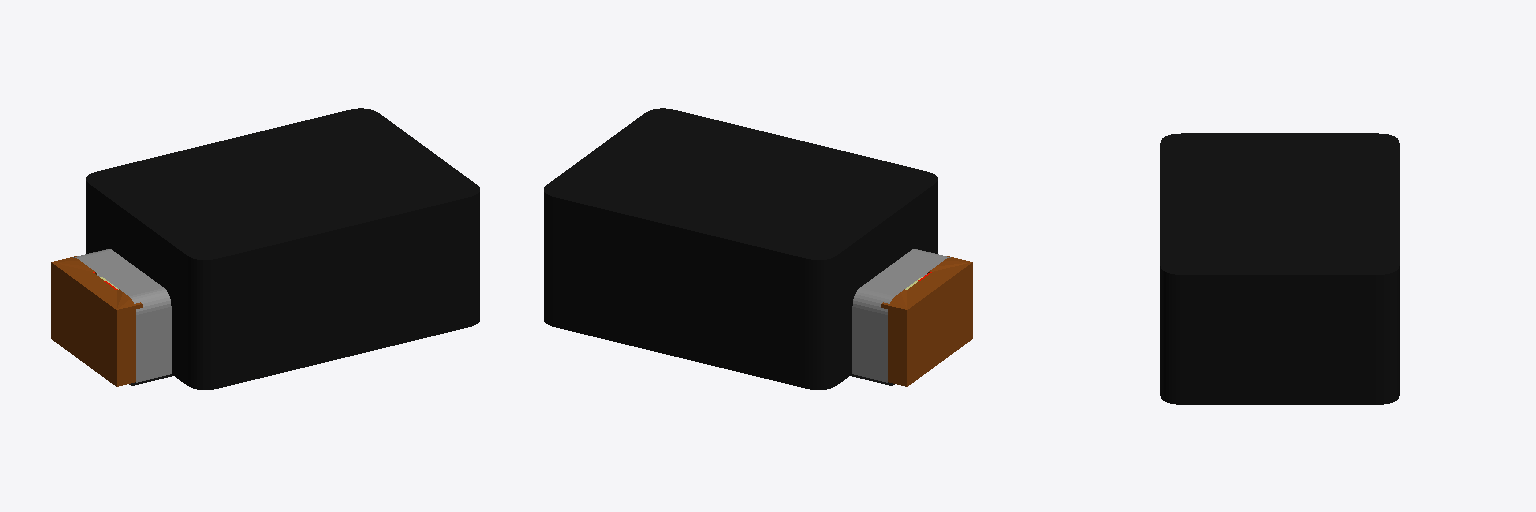
The model's file is holodeck.obj.
3 views of the same model, side by side, from view 1: azimuth 30°, elevation 25°; view 2: azimuth 150°, elevation 25°; view 3: azimuth 270°, elevation 25° (orthographic).
Parts seen in each view (by area): view 1: holodeckroom, holodeck_door, holodeckdoorrecess; view 2: holodeckroom, holodeck_door, holodeckdoorrecess; view 3: holodeckroom.
Boxes of the visible parts, box(x1,y1,x2,y2) form: holodeckroom: box(86, 108, 479, 389); holodeck_door: box(51, 256, 142, 386); holodeckdoorrecess: box(73, 249, 171, 382); holodeckroom: box(544, 108, 937, 389); holodeck_door: box(881, 256, 972, 386); holodeckdoorrecess: box(852, 249, 950, 382); holodeckroom: box(1160, 133, 1399, 404).
Bounding box in the file's own units: 831 × 300 × 500.